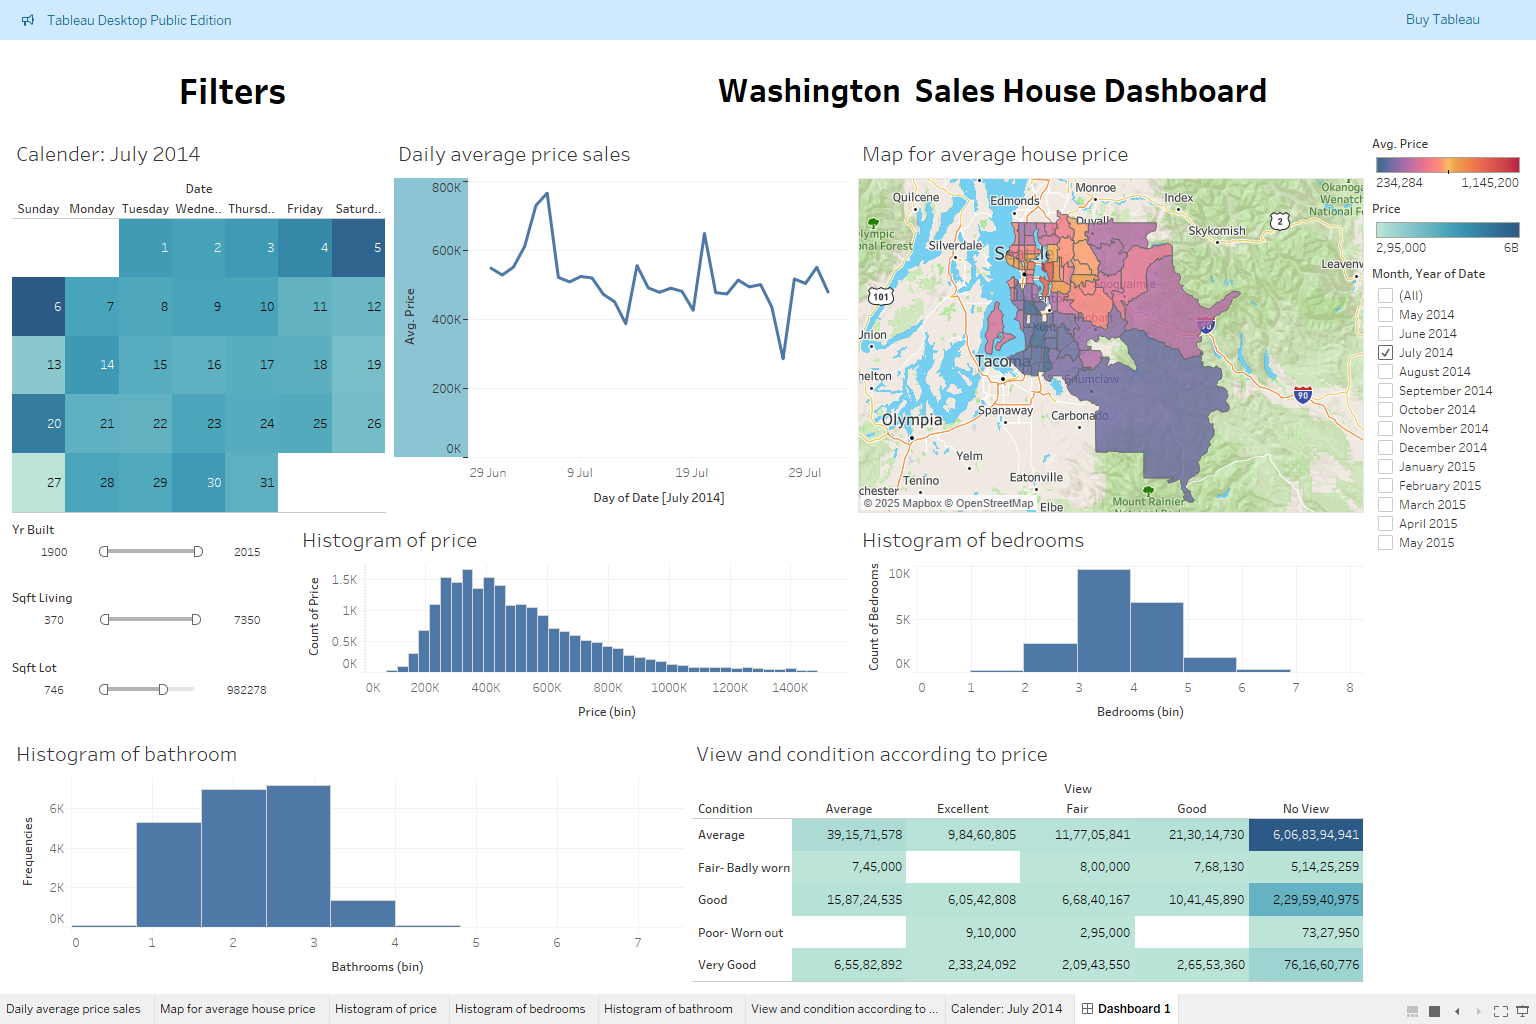

The dashboard page shown, as its layout file describes it:
{"tool":"tableau","page":{"name":"Dashboard 1","canvas":[1000,1000],"units":"permille","ordinal":0},"visuals":[{"type":"text","box":[5.9,9.9,292.2,86.6]},{"type":"text","box":[298,9.9,696.1,86.6]},{"type":"worksheet","title":"Calender: July 2014","mark":"Square","rows":["date"],"cols":["date"],"box":[5.9,96.5,244.9,403.5]},{"type":"worksheet","title":"Daily average price sales","mark":"Automatic","rows":["price"],"cols":["date"],"box":[250.7,96.5,297.3,403.5]},{"type":"worksheet","title":"Map for average house price","mark":"Automatic","box":[548,96.5,328.9,403.5]},{"type":"legend","title":"Map for average house price","param":"[federated.07qpv4e0diar941295hvo09mfgq8].[avg:price:qk]","box":[876.9,96.5,117.2,80.4]},{"type":"legend","title":"View and condition according to price","param":"[federated.07qpv4e0diar941295hvo09mfgq8].[sum:price:qk]","box":[876.9,177,117.2,80.4]},{"type":"filter","title":"Calender: July 2014","param":"[federated.07qpv4e0diar941295hvo09mfgq8].[my:date:ok]","box":[876.9,257.4,117.2,368.8]},{"type":"filter","title":"Calender: July 2014","param":"[federated.07qpv4e0diar941295hvo09mfgq8].[none:yr_built:qk]","box":[5.9,500,183.2,71.5]},{"type":"worksheet","title":"Histogram of price","mark":"Automatic","rows":["price"],"cols":["Price (bin)"],"box":[189,500,358.9,224]},{"type":"worksheet","title":"Histogram of bedrooms","mark":"Automatic","rows":["bedrooms"],"cols":["Bedrooms (bin)"],"box":[547.9,500,329,224]},{"type":"filter","title":"Calender: July 2014","param":"[federated.07qpv4e0diar941295hvo09mfgq8].[none:sqft_living:qk]","box":[5.9,571.5,183.2,72.2]},{"type":"filter","title":"Calender: July 2014","param":"[federated.07qpv4e0diar941295hvo09mfgq8].[none:sqft_lot:qk]","box":[5.9,643.7,183.2,80.3]},{"type":"worksheet","title":"Histogram of bathroom","mark":"Automatic","rows":["bathrooms"],"cols":["Bathrooms (bin)"],"box":[5.9,724,435.5,266.1]},{"type":"worksheet","title":"View and condition according to price","mark":"Square","rows":["condition"],"cols":["view"],"box":[441.4,724,435.5,266.1]}]}

Visuals, with their boxes on the dashboard's canvas, which has no fixed pixel size, in thousandths of its width and height (x1, y1, x2, y2). These are canvas units, not pixel positions in the 1536x1024 screenshot, which may show the page scaled, cropped or inside an application window:
text: <region>6, 10, 298, 96</region>
text: <region>298, 10, 994, 96</region>
"Calender: July 2014" worksheet (Square marks): <region>6, 96, 251, 500</region>
"Daily average price sales" worksheet: <region>251, 96, 548, 500</region>
"Map for average house price" worksheet: <region>548, 96, 877, 500</region>
"Map for average house price" legend: <region>877, 96, 994, 177</region>
"View and condition according to price" legend: <region>877, 177, 994, 257</region>
"Calender: July 2014" filter: <region>877, 257, 994, 626</region>
"Calender: July 2014" filter: <region>6, 500, 189, 572</region>
"Histogram of price" worksheet: <region>189, 500, 548, 724</region>
"Histogram of bedrooms" worksheet: <region>548, 500, 877, 724</region>
"Calender: July 2014" filter: <region>6, 572, 189, 644</region>
"Calender: July 2014" filter: <region>6, 644, 189, 724</region>
"Histogram of bathroom" worksheet: <region>6, 724, 441, 990</region>
"View and condition according to price" worksheet (Square marks): <region>441, 724, 877, 990</region>
